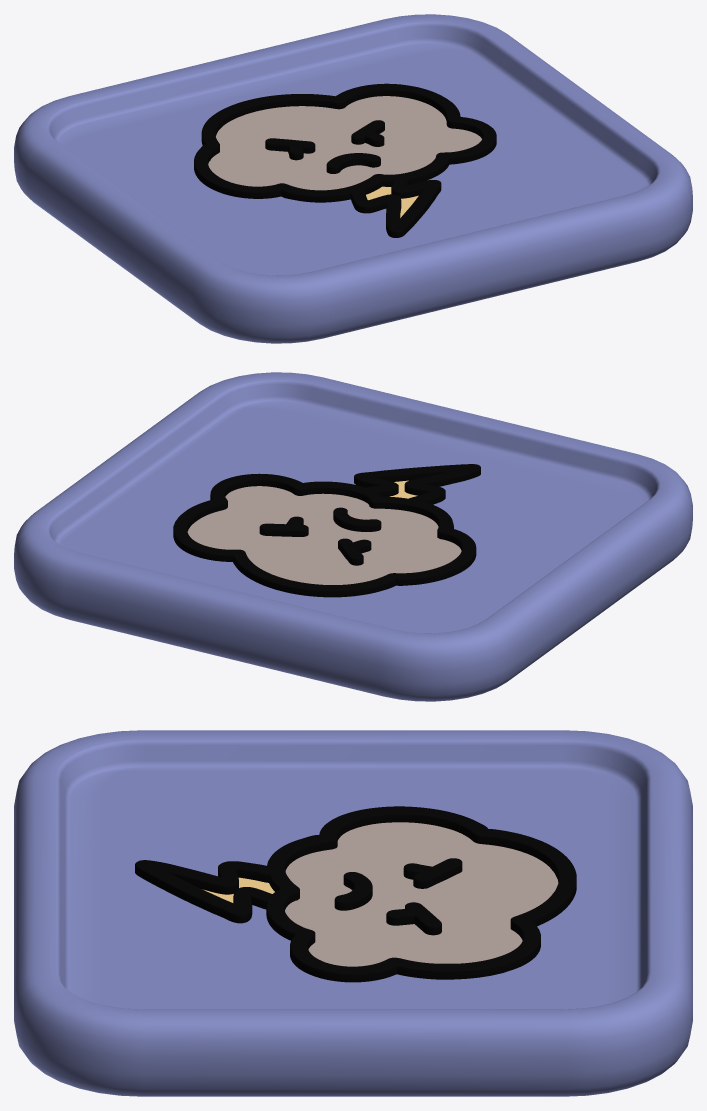
The model's file is thunder_tile.fbx.
3 renders of one model, top to bottom at view 1: azimuth 30°, elevation 25°; view 2: azimuth 150°, elevation 25°; view 3: azimuth 270°, elevation 25°, orthographic. The views are drawn at different scales.
Parts seen in each view (by area): view 1: thunder_cube, thunder_lines; view 2: thunder_cube, thunder_lines; view 3: thunder_cube, thunder_lines.
Part boxes in pixels (x1=…): thunder_cube: x1=14, y1=14, x2=692, y2=343; thunder_lines: x1=194, y1=83, x2=496, y2=237; thunder_cube: x1=14, y1=372, x2=692, y2=701; thunder_lines: x1=173, y1=464, x2=480, y2=597; thunder_cube: x1=14, y1=730, x2=692, y2=1096; thunder_lines: x1=135, y1=806, x2=576, y2=982.
Size of the model in its own units: 1201 by 143 by 1128.
